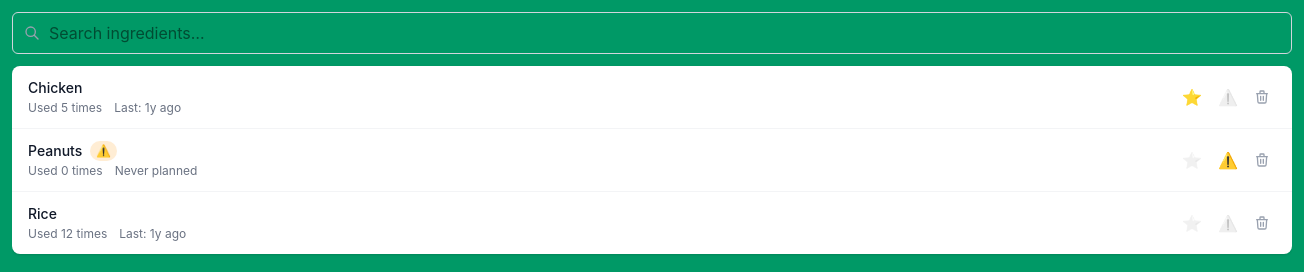
Test case: IngredientsList › filters ingredients by search
The image size is (1304, 272).
Type "chick" into the field with placeholder "Search ingredients…" at (652, 33), box [12, 12, 1292, 54]
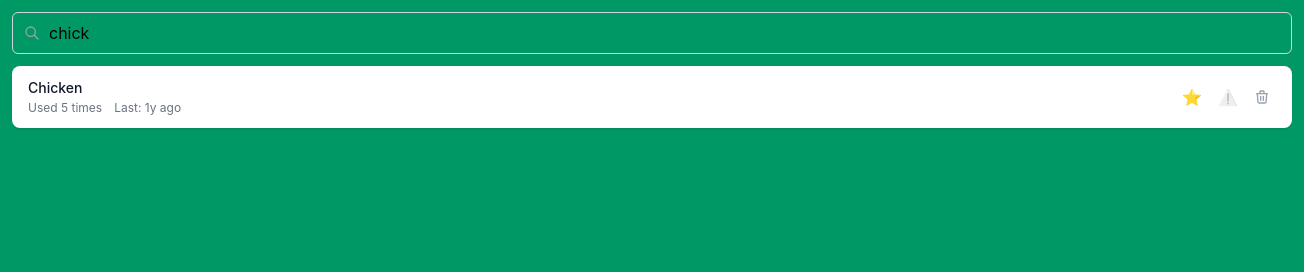
Expected: the text "Chicken" is shown, [28, 78, 82, 98]
Expected: the text "Rice" is gone
Expected: the text "Peanuts" is gone
